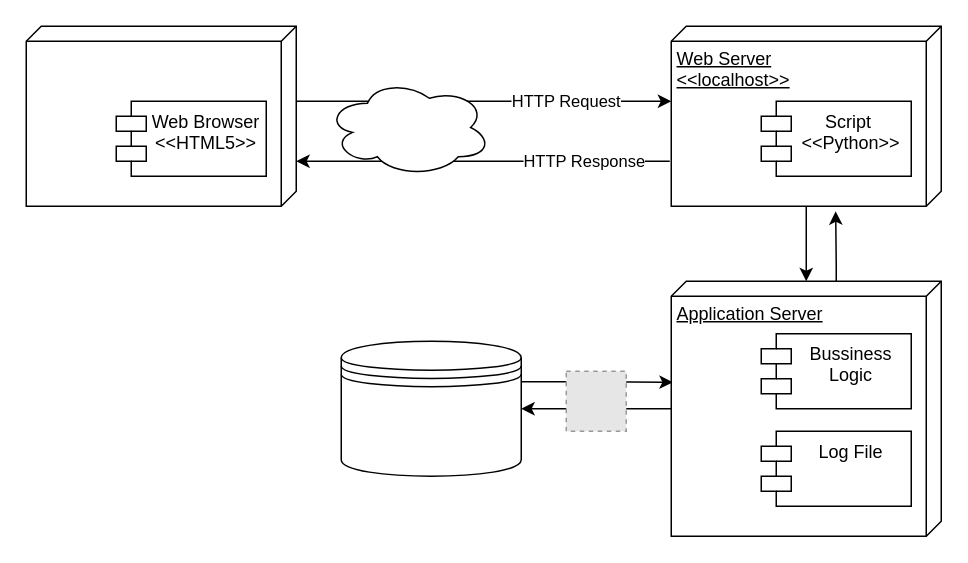
Image size: 968x563. Some labels were removed from this diagram. Grey dashed boxes stand in for pictures. Here are the shapes that lost their labels. From the top down, the box of each, then its label:
(25, 25, 296, 206): Client Machine
(325, 77, 491, 176): Internet
(340, 340, 521, 476): Database <<PostgreSQL>>
